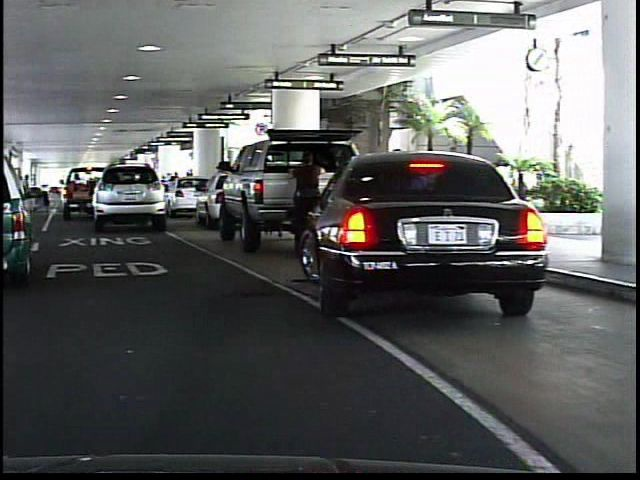person: (281, 149, 331, 254)
